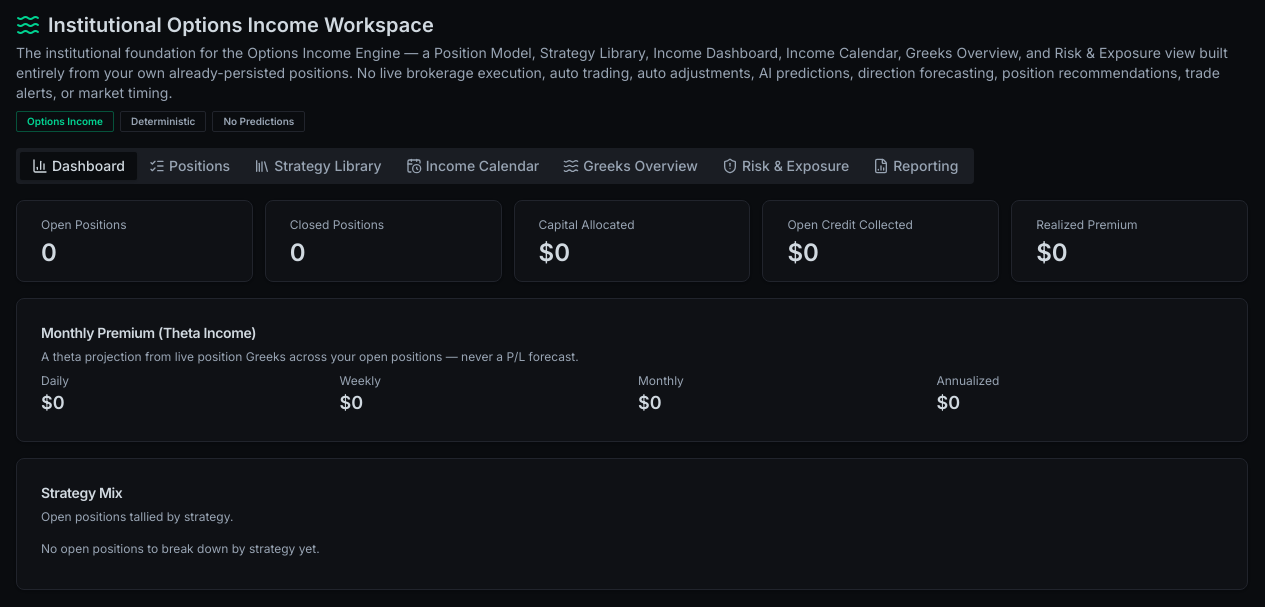
Scenario: OptionsIncomeWorkspace › renders the Strategy Library as pure metadata — never a leg or credit field
The image size is (1265, 607).
Click the tab with test id "tab-oiw-strategy-library": (318, 166) [242,152,394,180]
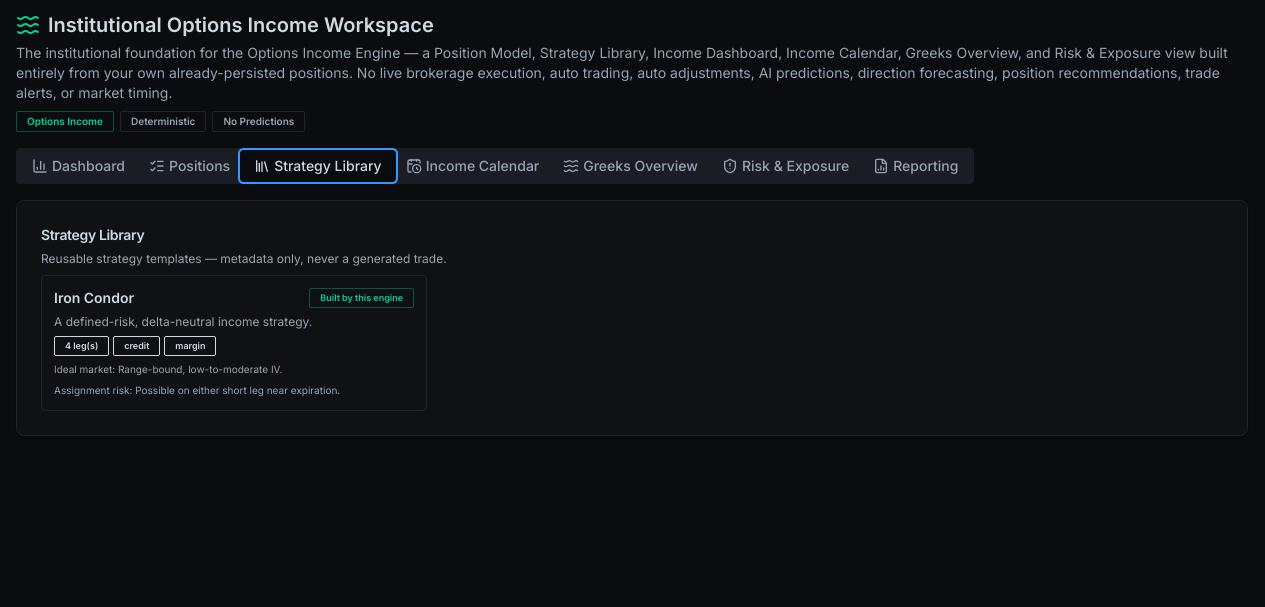
Expected: the element with test id "strategy-template-iron_condor" does not show "$", [41,275,427,410]
Now the element with test id "strategy-template-iron_condor" shows "Iron Condor", box [54,289,134,306]
Now the element with test id "strategy-template-iron_condor" shows "Built by this engine", box [320,292,403,303]
